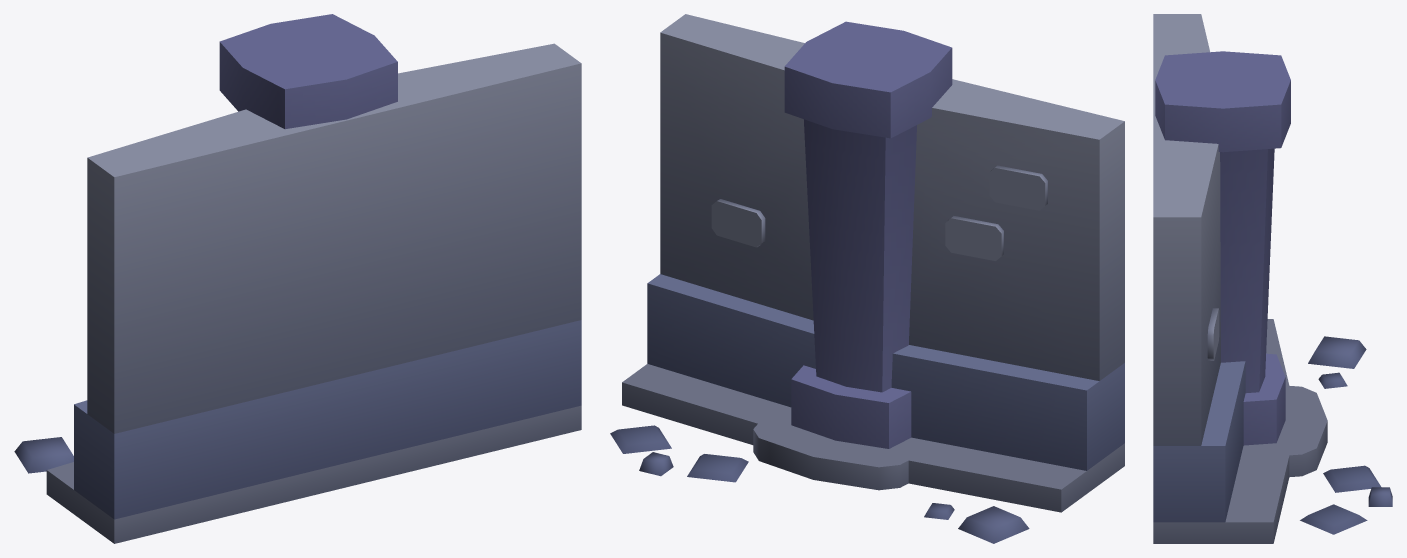
File: template-wall-detail-a.glb
The picture shows the model from 3 angles, left to right: view 1: azimuth 30°, elevation 25°; view 2: azimuth 150°, elevation 25°; view 3: azimuth 270°, elevation 25°; orthographic projection. The views are drawn at different scales.
Visible parts, largest first — view 1: template-wall-detail-a; view 2: template-wall-detail-a; view 3: template-wall-detail-a.
Boxes of the visible parts, box(x1,y1,x2,y2) form: template-wall-detail-a: box(14, 14, 581, 543); template-wall-detail-a: box(610, 14, 1124, 543); template-wall-detail-a: box(1153, 14, 1392, 543).
Bounding box in the file's own units: 4 × 3.33 × 1.99.
